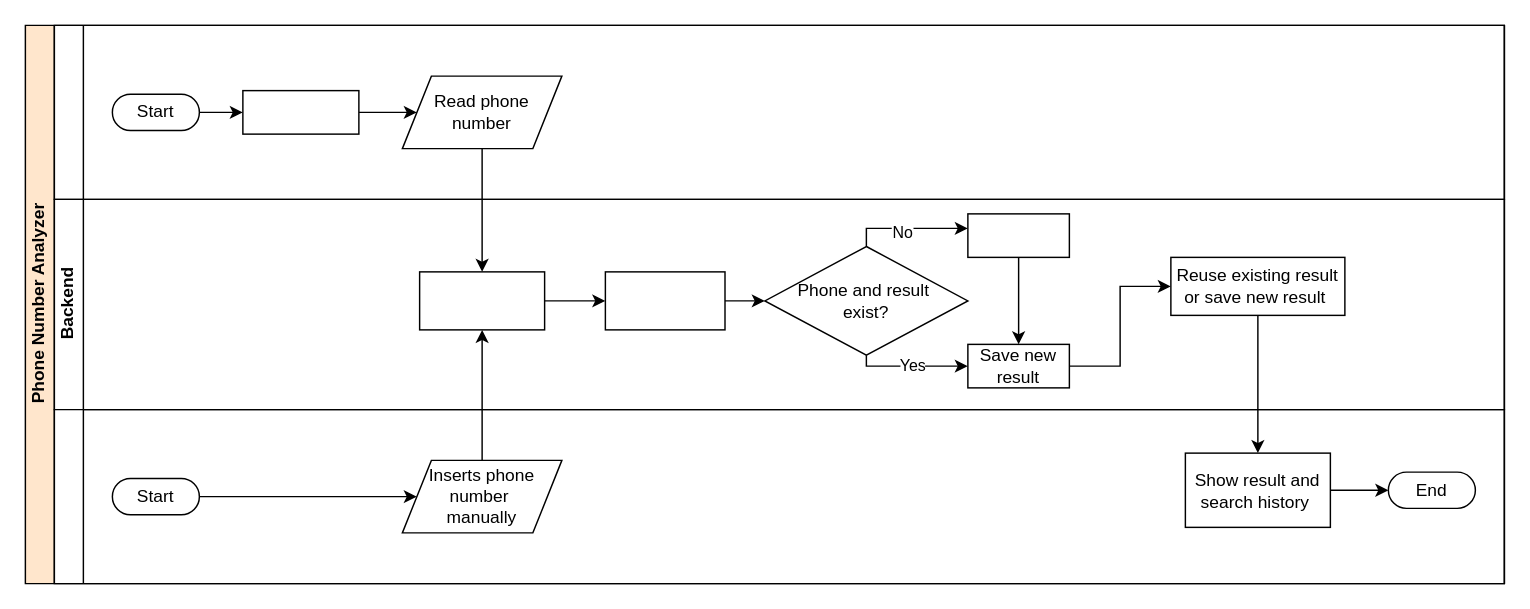
Some shapes in this 1530 by 609 pixel diagram are drawn without their labels. The box of each missing label's shape, as (x1, y1, x2, y2) in pixels:
Analyze if needed: (604, 270, 725, 330)
Android: (53, 24, 1504, 199)
Call comes in: (241, 89, 359, 134)
Frontend: (53, 408, 1504, 584)
Receive phone number: (418, 270, 545, 330)
Save new phone: (966, 212, 1069, 257)
